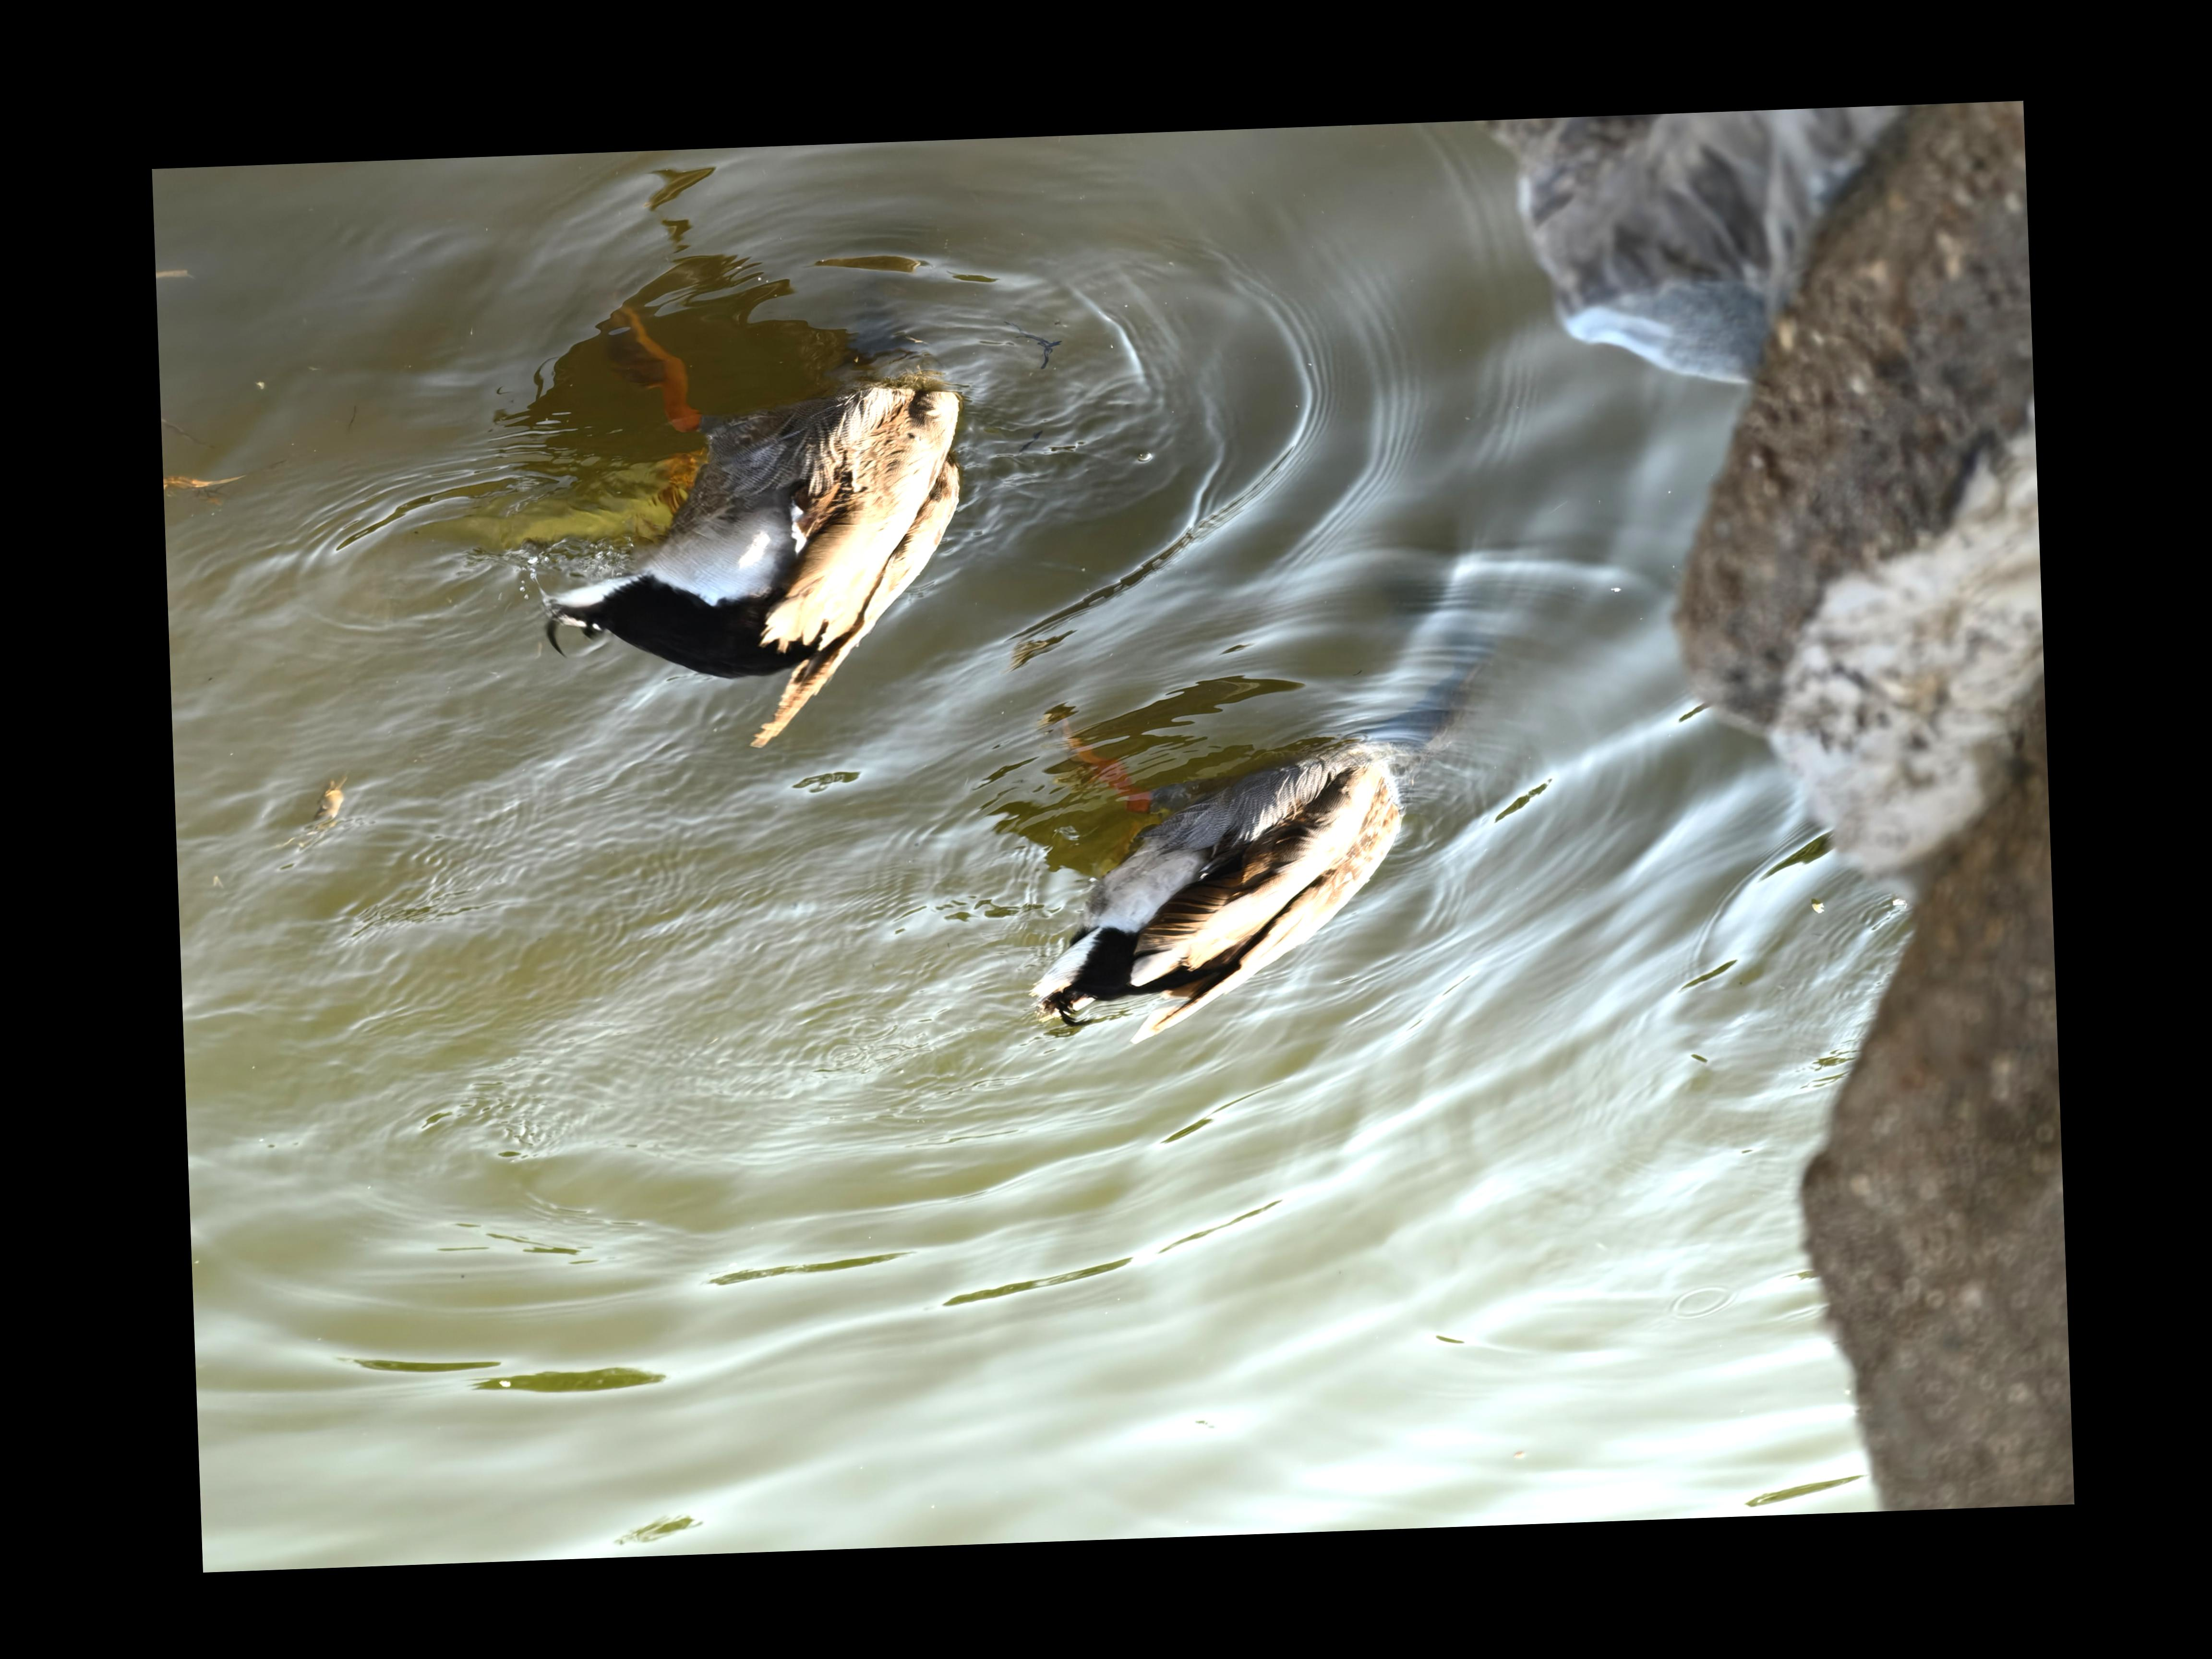duck: (470, 298, 1049, 784), (988, 734, 1440, 1070)
